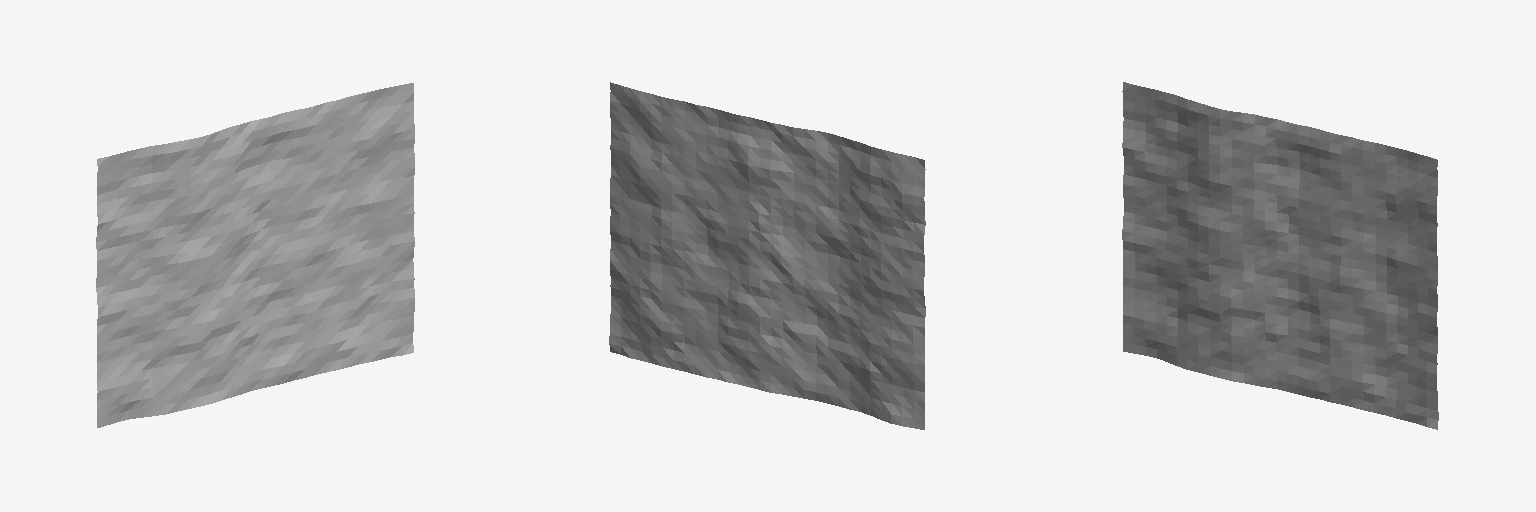
Rendered from curtain.obj.
3 views of the same model, side by side, from view 1: azimuth 30°, elevation 25°; view 2: azimuth 150°, elevation 25°; view 3: azimuth 330°, elevation 25° (orthographic).
Visible parts, largest first — view 1: Mesh_Grid_Grid.001; view 2: Mesh_Grid_Grid.001; view 3: Mesh_Grid_Grid.001.
Boxes of the visible parts, x1=… form: Mesh_Grid_Grid.001: x1=96, y1=83, x2=414, y2=427; Mesh_Grid_Grid.001: x1=609, y1=82, x2=925, y2=429; Mesh_Grid_Grid.001: x1=1122, y1=82, x2=1438, y2=429.
Bounding box in the file's own units: 10.96 × 8.95 × 0.3747.